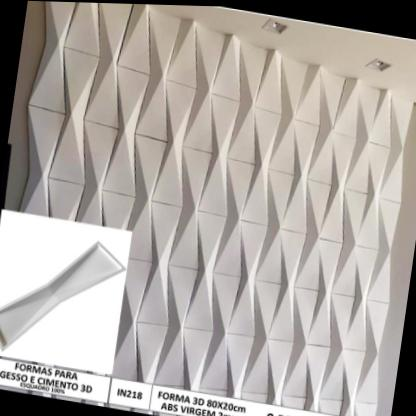Futech tiles: (45, 2, 416, 365)
